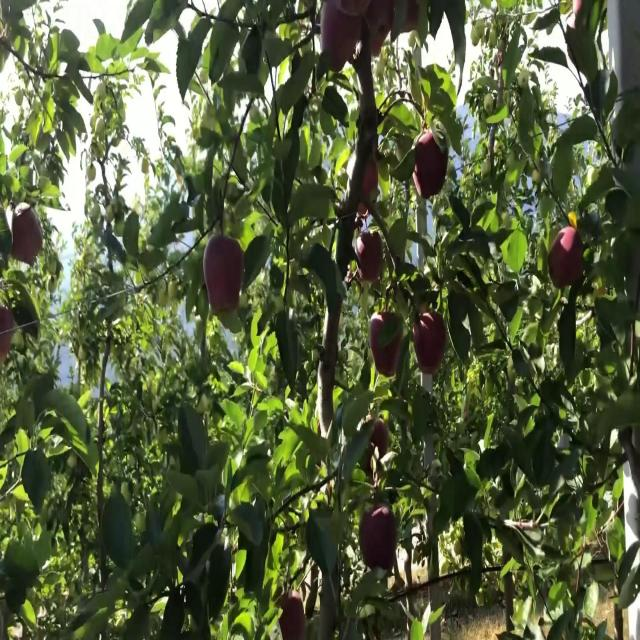apple: (204, 234, 246, 315), (320, 0, 363, 75), (360, 504, 399, 572), (412, 305, 449, 375), (548, 227, 587, 293), (416, 135, 449, 203), (372, 312, 403, 380), (12, 206, 44, 267), (356, 227, 385, 286), (368, 0, 395, 59), (356, 156, 382, 212), (365, 419, 390, 471), (280, 597, 307, 639), (400, 0, 423, 34), (0, 327, 14, 364), (356, 206, 371, 231), (4, 305, 16, 334), (4, 334, 13, 359)
